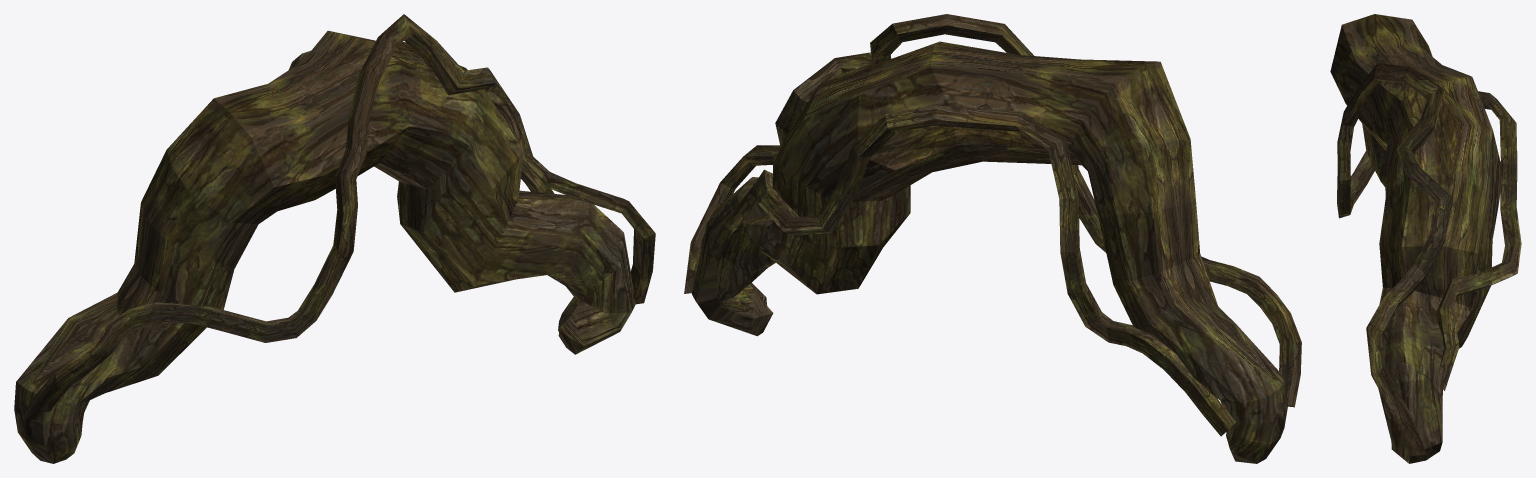
Rendered from BossWood2.fbx.
The picture shows the model from 3 angles, left to right: view 1: azimuth 30°, elevation 25°; view 2: azimuth 150°, elevation 25°; view 3: azimuth 270°, elevation 25°; orthographic projection. The views are drawn at different scales.
Visible parts, largest first — view 1: BossWood2; view 2: BossWood2; view 3: BossWood2.
Part boxes in pixels (<box>): BossWood2: <box>14,14,655,463</box>; BossWood2: <box>684,14,1301,463</box>; BossWood2: <box>1330,14,1521,463</box>.
Bounding box in the file's own units: 196 × 112 × 62.9.
